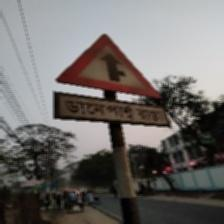Side-road-right: (53, 33, 168, 129)
